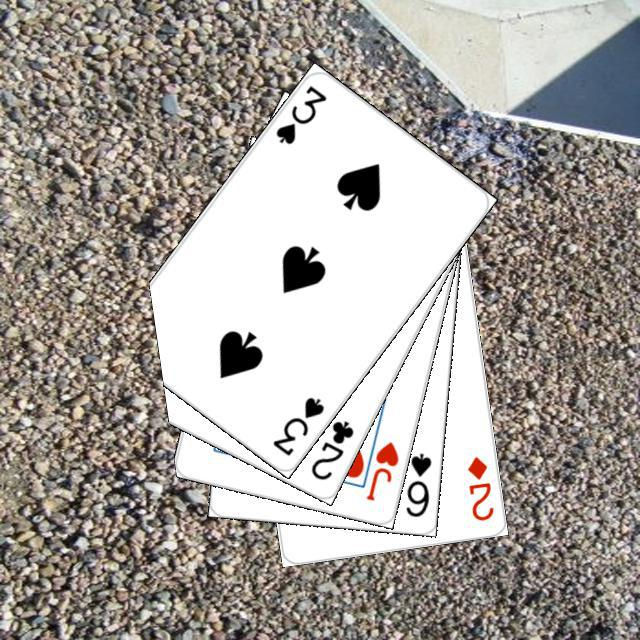2c: (305, 416, 356, 482)
2d: (462, 451, 496, 523)
3s: (268, 391, 326, 458), (270, 80, 328, 146)
6s: (401, 448, 433, 519)
Jh: (361, 436, 401, 503)
